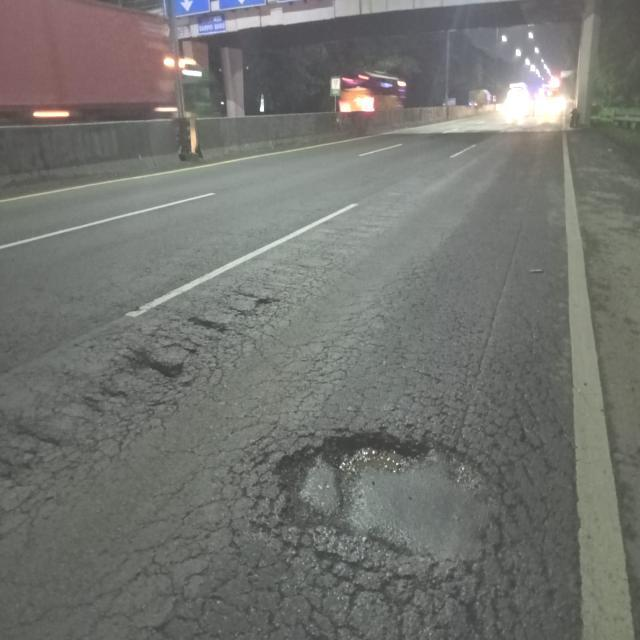Buraco: (269, 424, 435, 540), (120, 345, 188, 382), (184, 314, 230, 336), (251, 294, 284, 310)
